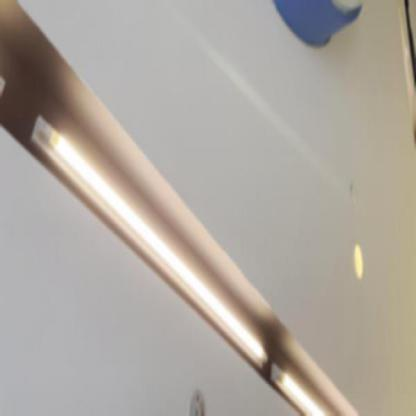light_on: (23, 113, 267, 372), (273, 364, 328, 415)
